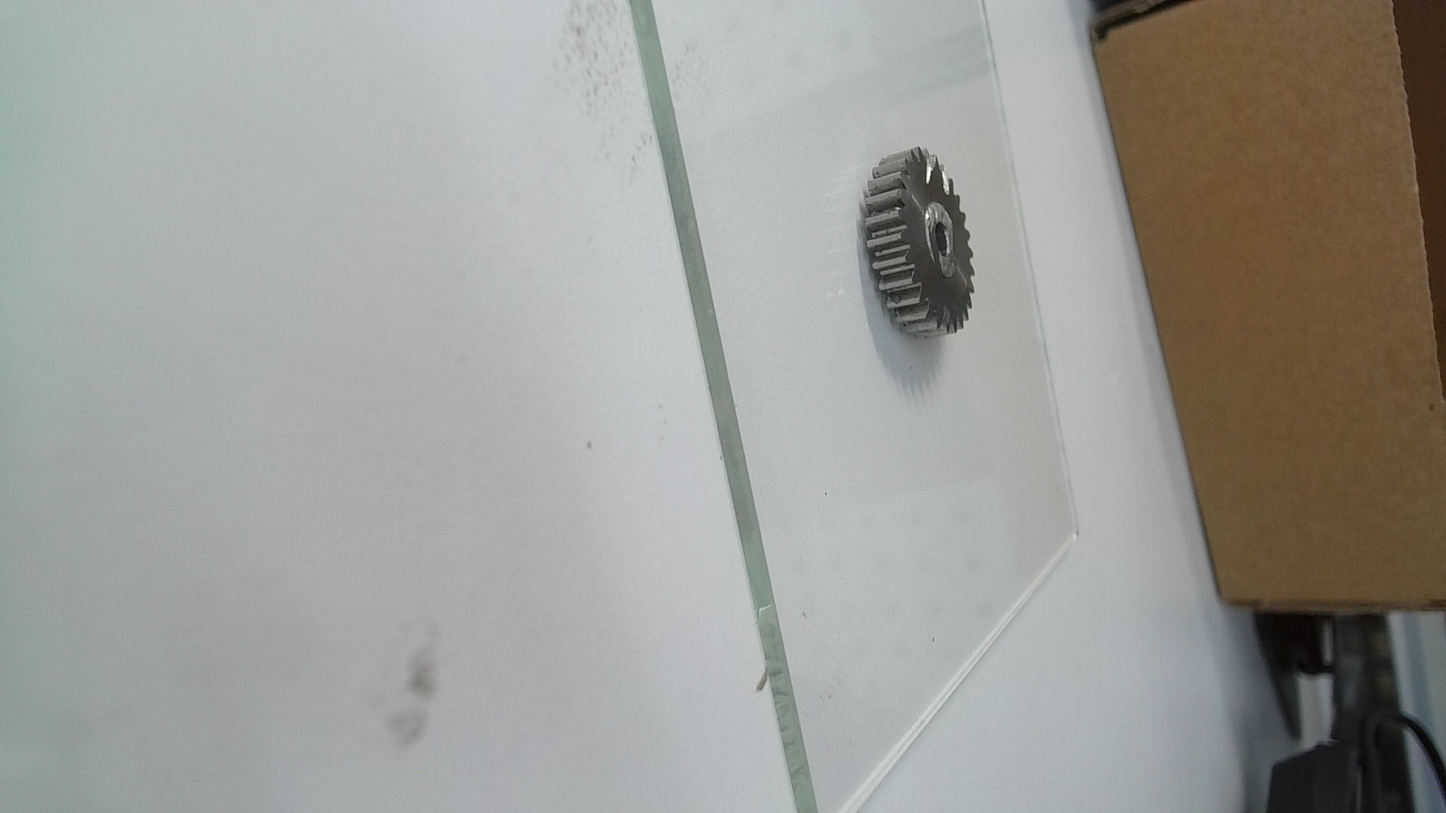gear: (855, 139, 983, 348)
